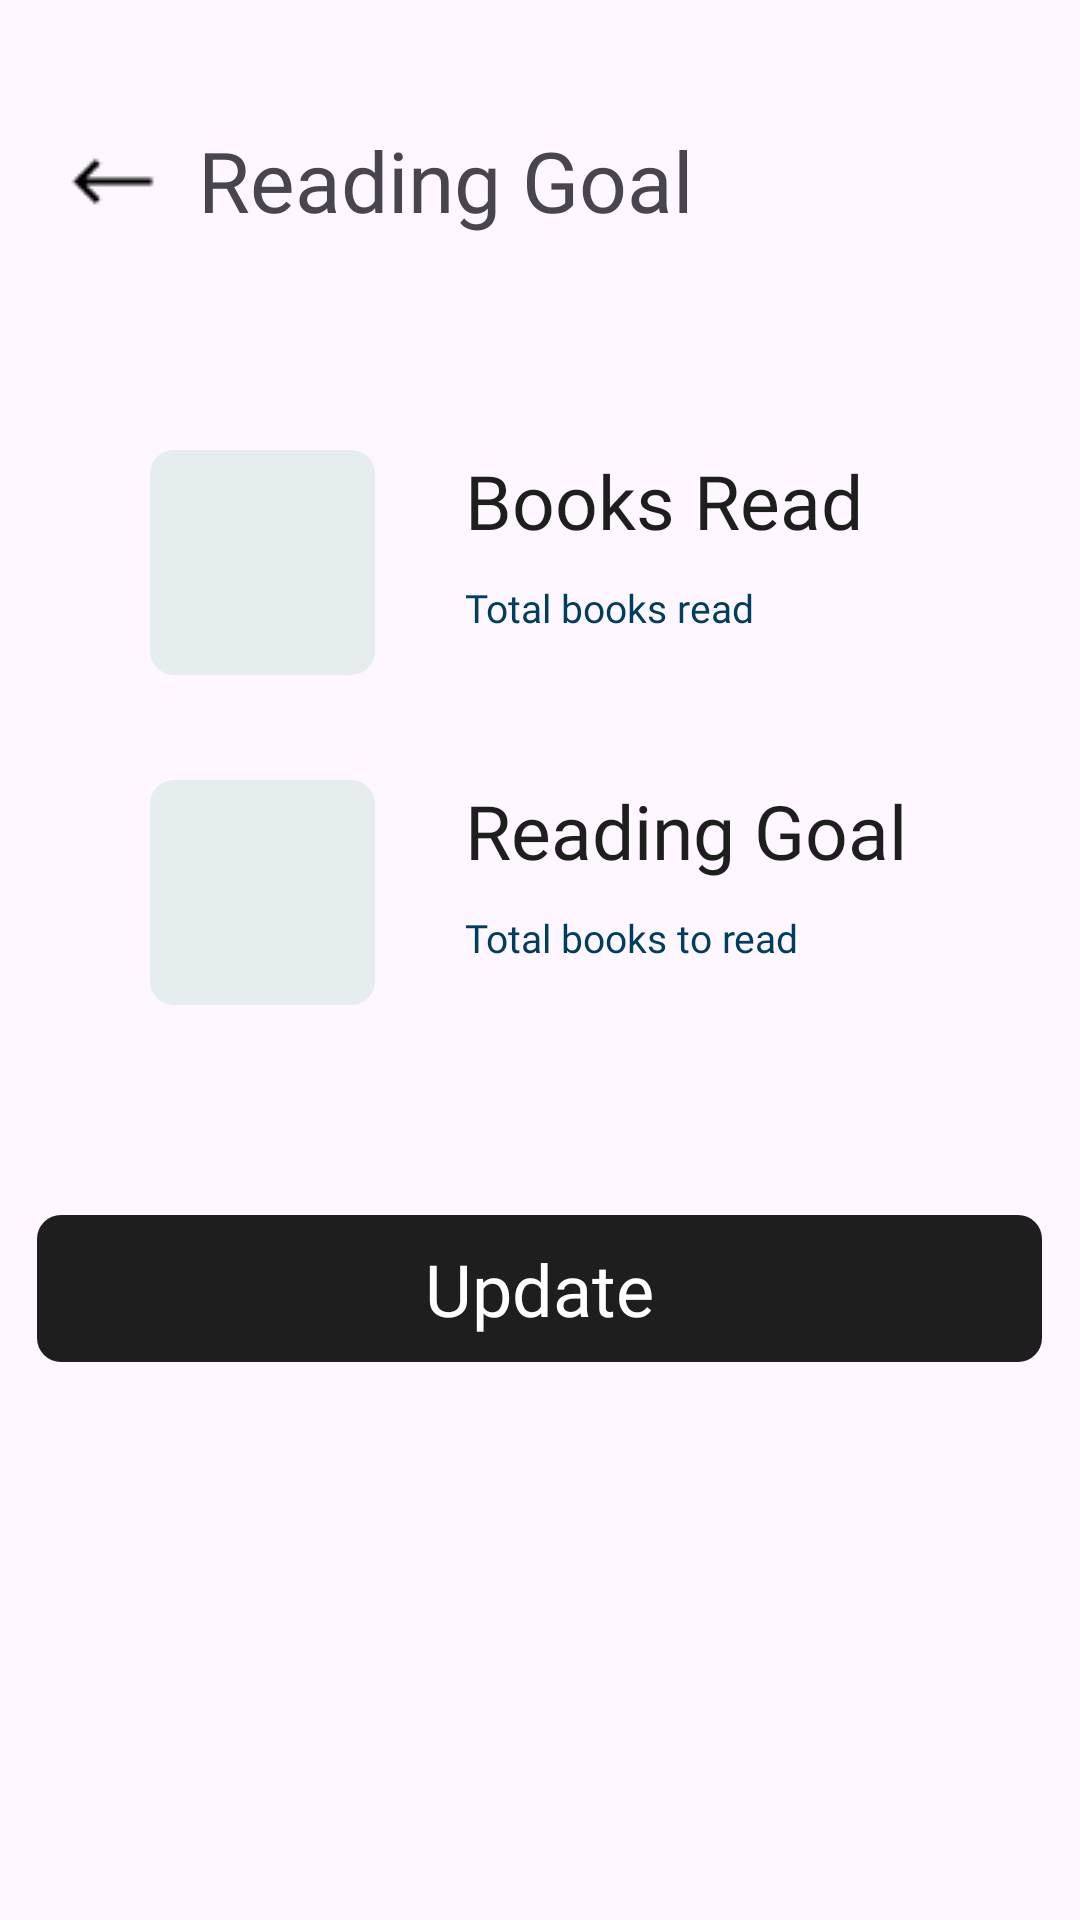

Where to tap for icons on this 1080px×1920px app screen, as point (x, y):
arrow: point (112, 181)
